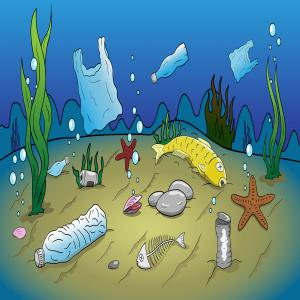Can: (216, 211, 234, 270), (80, 170, 100, 188)
Plastic-bottle: (35, 204, 109, 270), (152, 42, 190, 86), (48, 156, 71, 179)
Trash: (74, 36, 125, 138), (229, 39, 260, 85)
